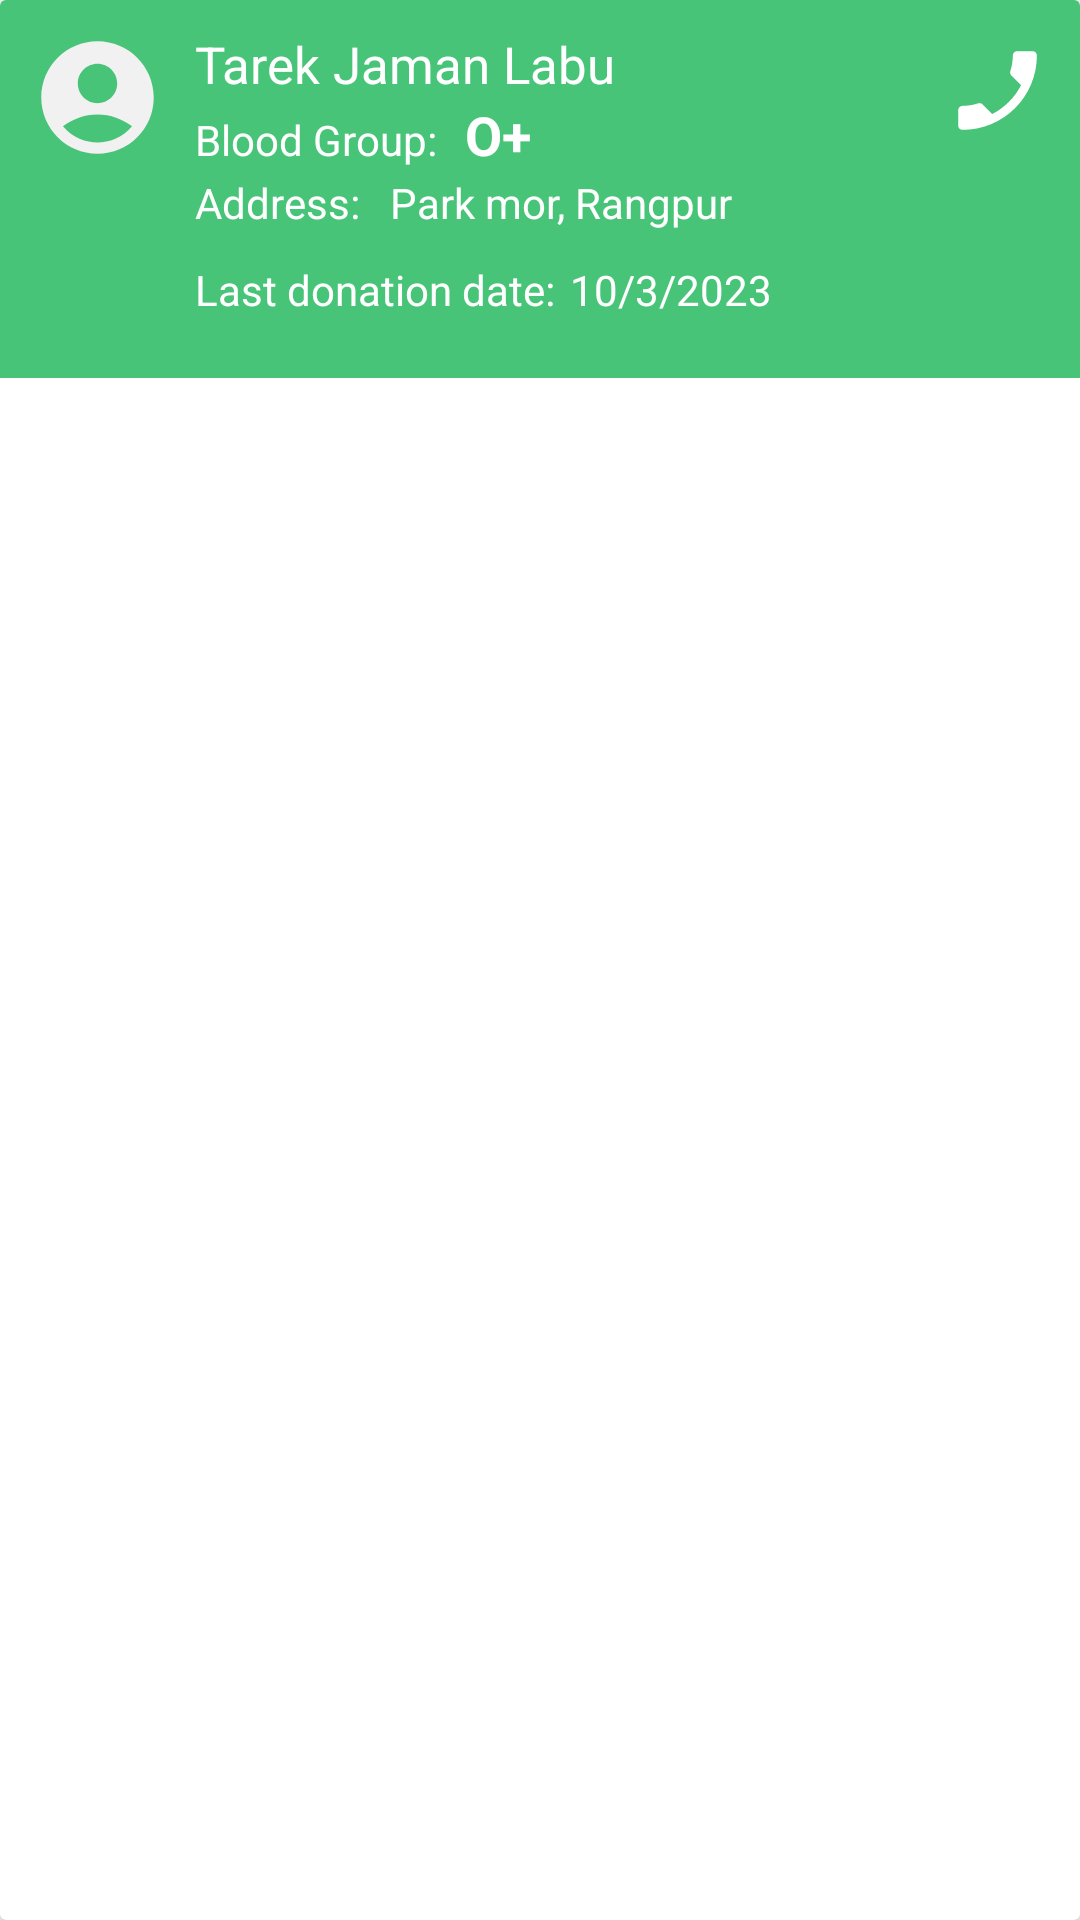

Icon bounding boxes for this 1080 × 1920 phone screenshot, format region(x1, y1, x2, y2):
account circle: region(41, 41, 154, 154)
phone: region(958, 51, 1037, 130)
